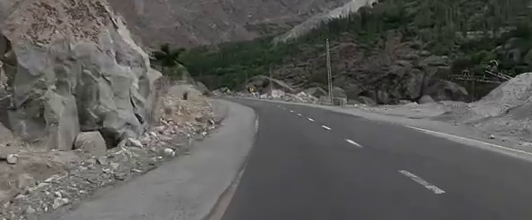right: (221, 80, 422, 159)
